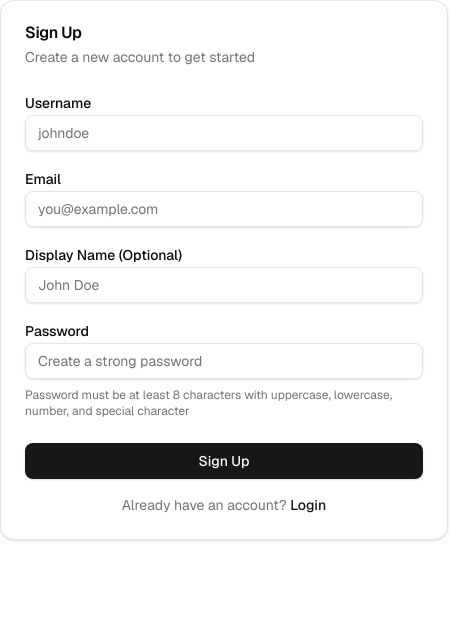
Test case: SignupForm › validates password strength - missing uppercase
Type "password123!" into the password field labelled "Password" at coordinates (224, 361), box [25,343,423,379]
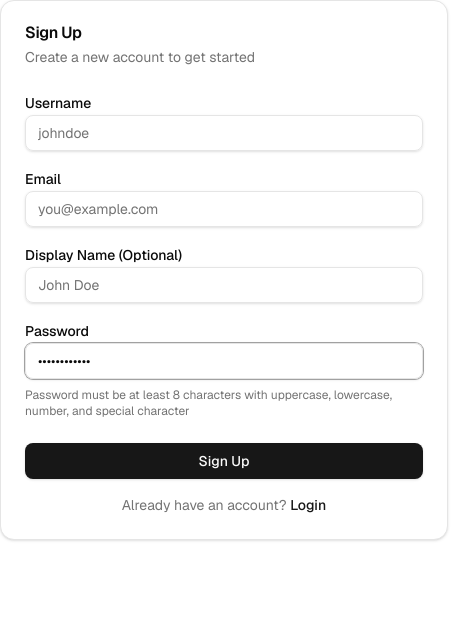
Click the button "Sign Up" at coordinates (224, 461), box [25,443,423,479]
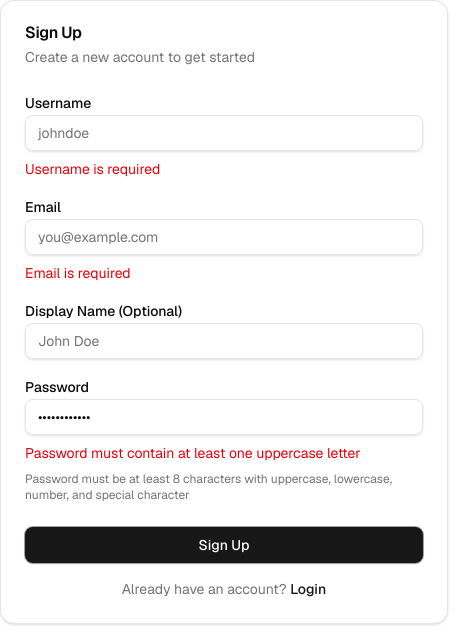
Result: the text "Password must contain at least one uppercase letter" is shown at [25,444,360,462]
